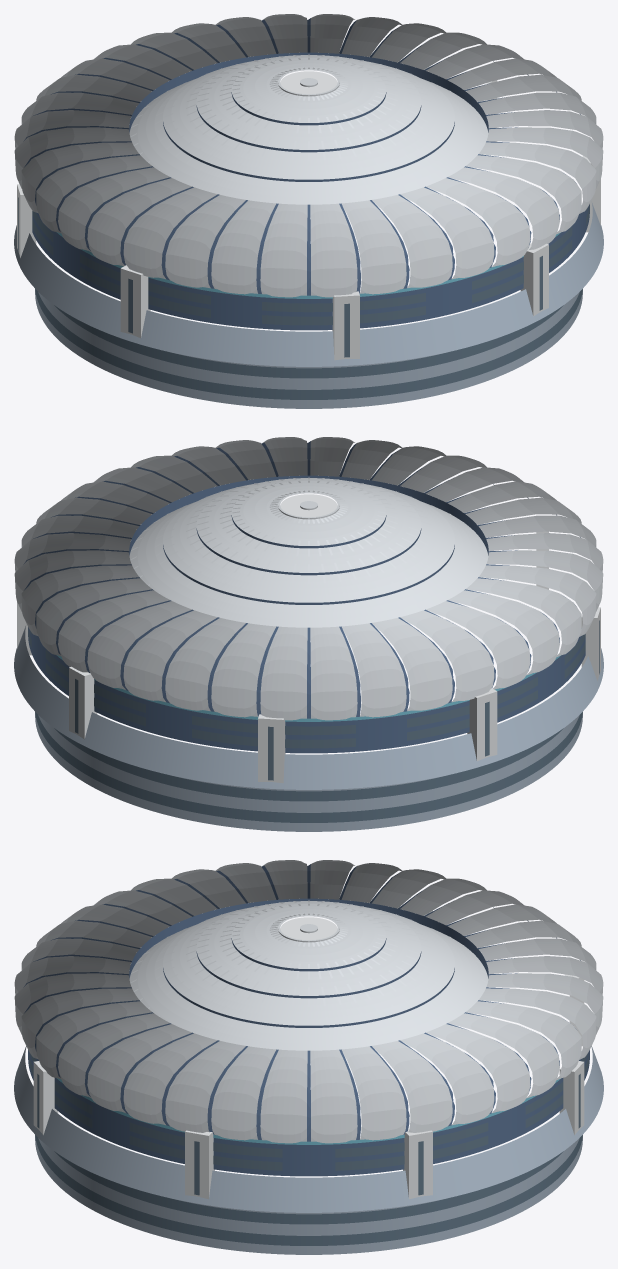
File: osaka-kyocera-dome.detail.glb
The picture shows the model from 3 angles, top to bottom: view 1: azimuth 30°, elevation 25°; view 2: azimuth 150°, elevation 25°; view 3: azimuth 270°, elevation 25°; orthographic projection.
Parts seen in each view (by area): view 1: Kyocera Dome Osaka; view 2: Kyocera Dome Osaka; view 3: Kyocera Dome Osaka.
Boxes of the visible parts, bbox=[...] form: Kyocera Dome Osaka: bbox=[14, 14, 603, 408]; Kyocera Dome Osaka: bbox=[14, 437, 603, 831]; Kyocera Dome Osaka: bbox=[14, 860, 603, 1254].
Bounding box in the file's own units: 210 × 83 × 210.
